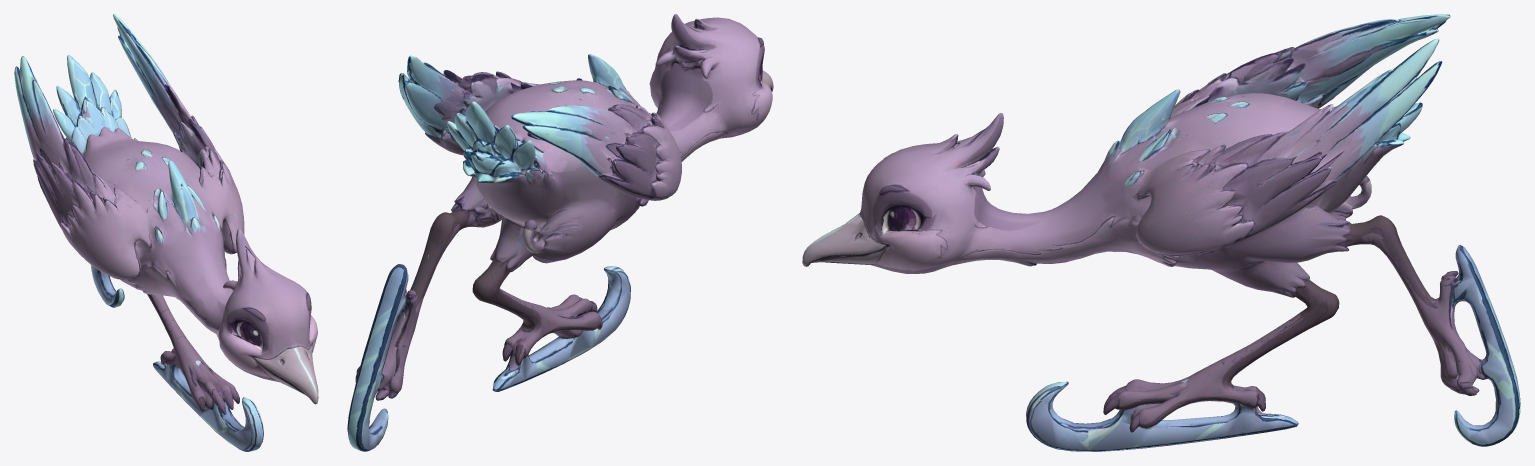
The model's file is hoarheron.glb.
3 views of the same model, side by side, from view 1: azimuth 30°, elevation 25°; view 2: azimuth 150°, elevation 25°; view 3: azimuth 270°, elevation 25° (orthographic). The views are drawn at different scales.
Visible parts, largest first — view 1: Mesh_0; view 2: Mesh_0; view 3: Mesh_0.
Boxes of the visible parts, x1=… form: Mesh_0: x1=14, y1=14, x2=318, y2=451; Mesh_0: x1=347, y1=14, x2=773, y2=451; Mesh_0: x1=802, y1=14, x2=1520, y2=451.
Size of the model in its own units: 0.6379 by 1.23 by 1.9.
1 material, 1 textured.
